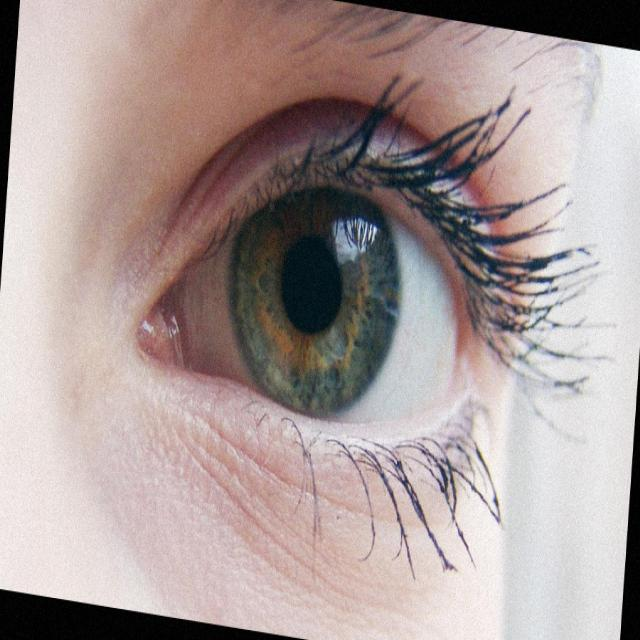Healthy-Eye: (108, 89, 554, 522)
